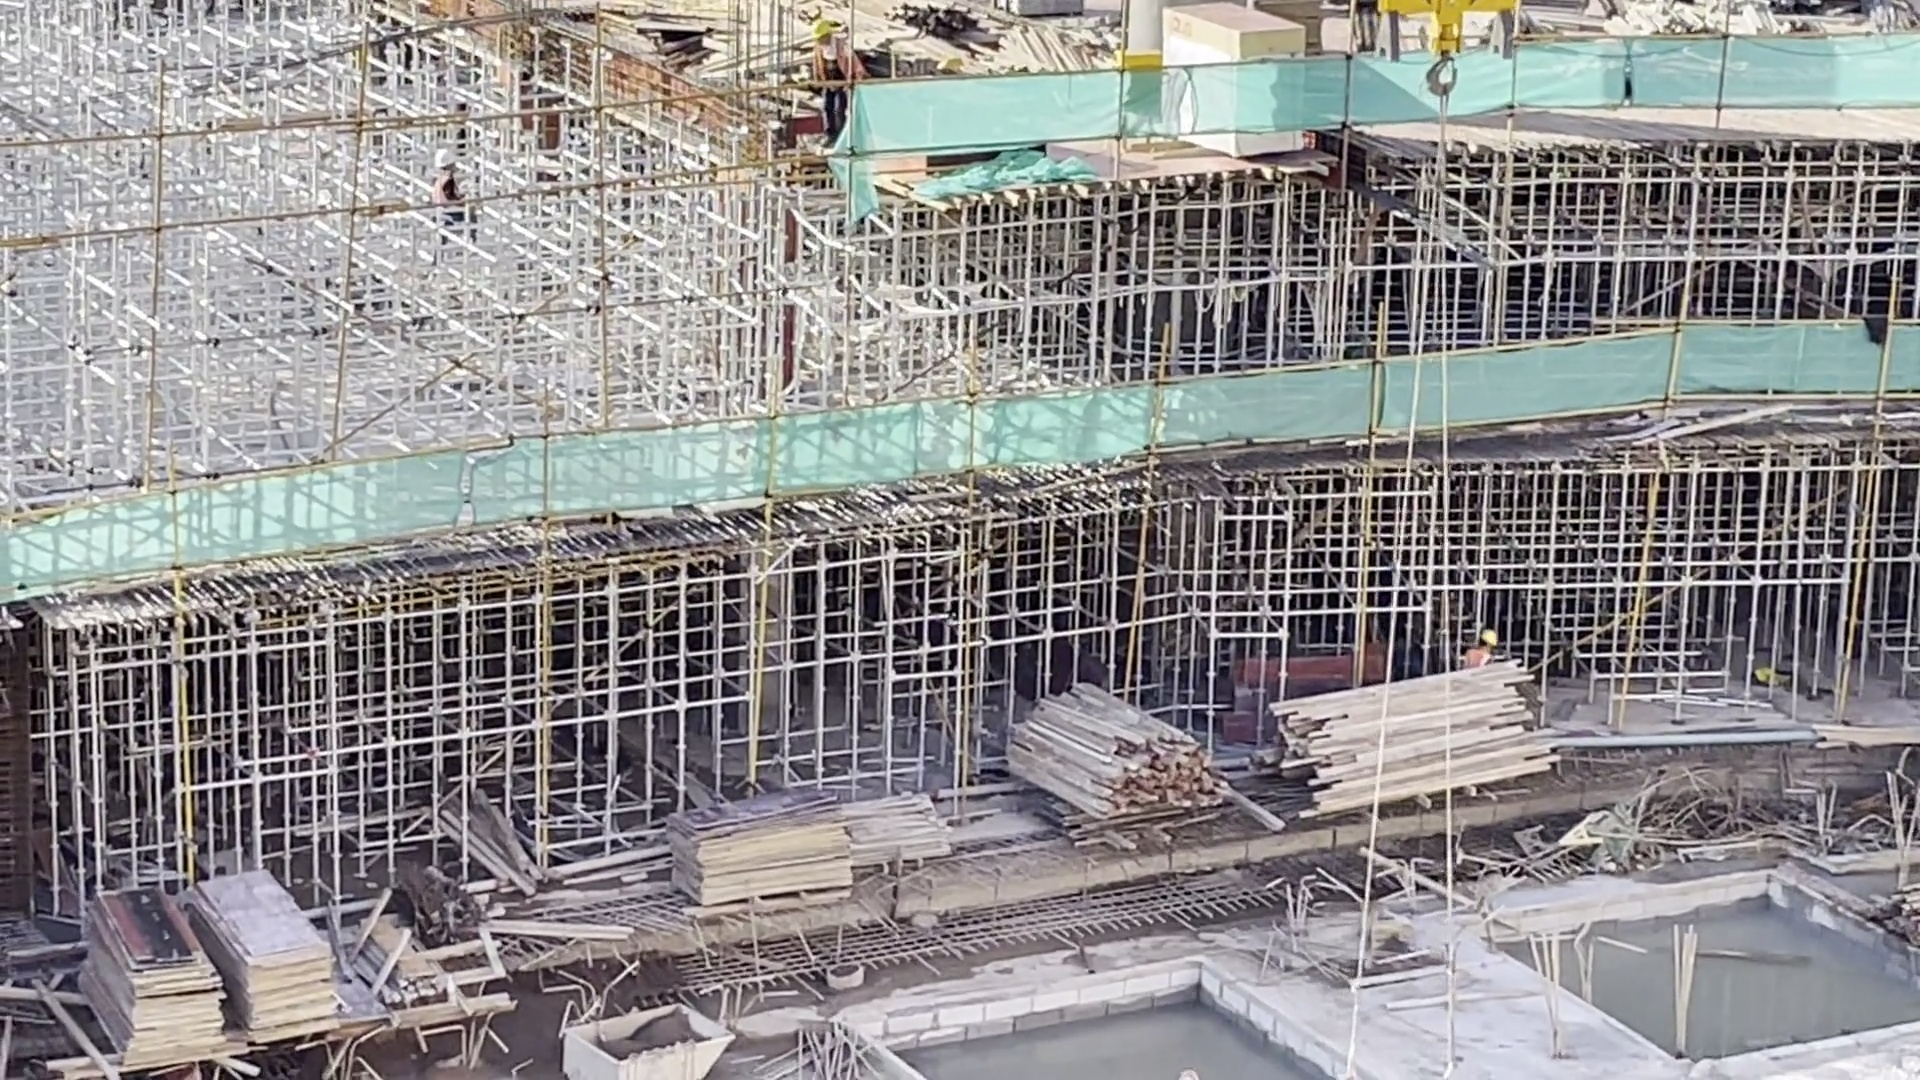board: (193, 869, 352, 1048), (71, 886, 232, 1063), (660, 783, 856, 919), (1161, 3, 1311, 59)
helmet: (433, 147, 460, 171), (811, 22, 834, 42), (1480, 630, 1498, 648)
hook: (1371, 1, 1526, 113)
hopper: (554, 1006, 732, 1080)
person: (804, 20, 851, 82), (425, 146, 471, 205), (1459, 630, 1503, 672)
vest: (1464, 649, 1493, 668)
wood: (1260, 669, 1563, 809), (1003, 675, 1223, 820)
